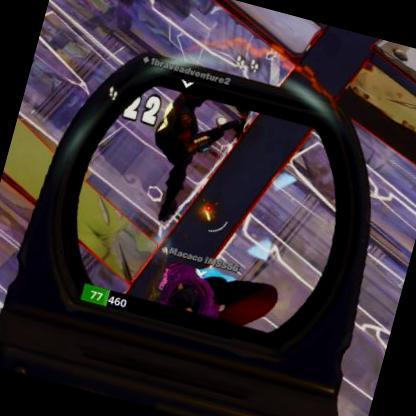person: (129, 83, 219, 230)
